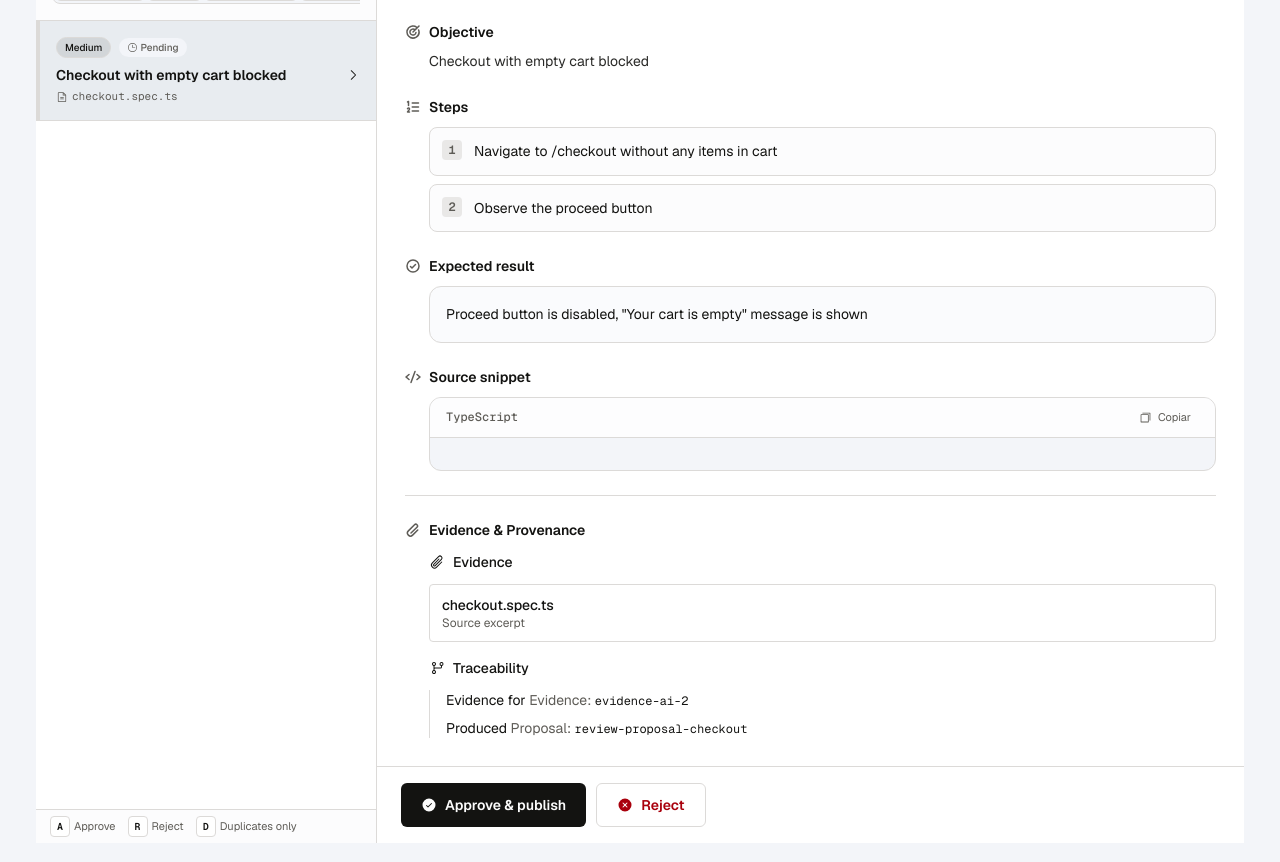
ReviewInboxPage › approval conflicts › still explains a title collision when the API could not name the case
(page scrolled)
Click the button "Approve & publish": [494, 805] box [401, 783, 586, 827]
(page scrolled)
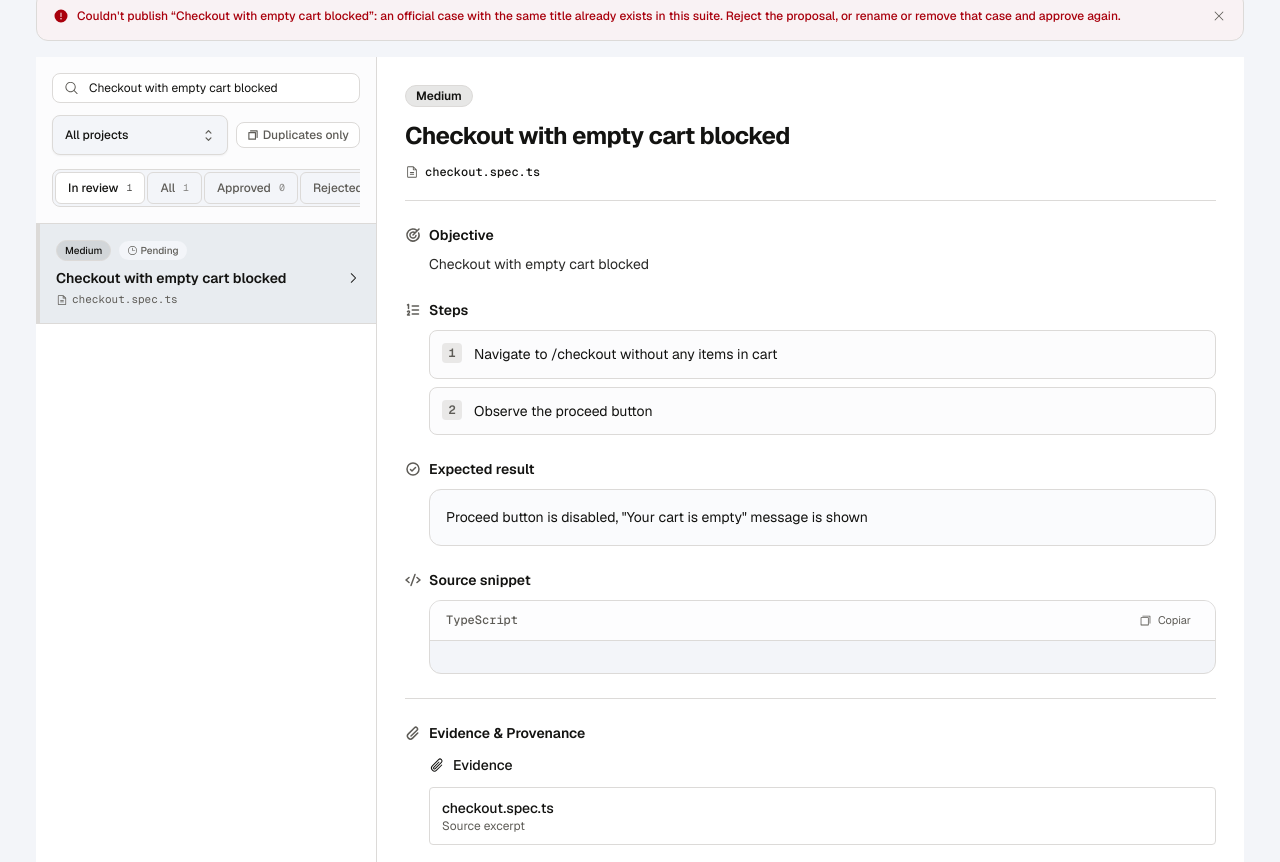
Result: the message shows "Checkout with empty cart blocked" at [77, 8, 1121, 24]
Result: the message shows "an official case with the same title already exists" at [77, 8, 1121, 24]
